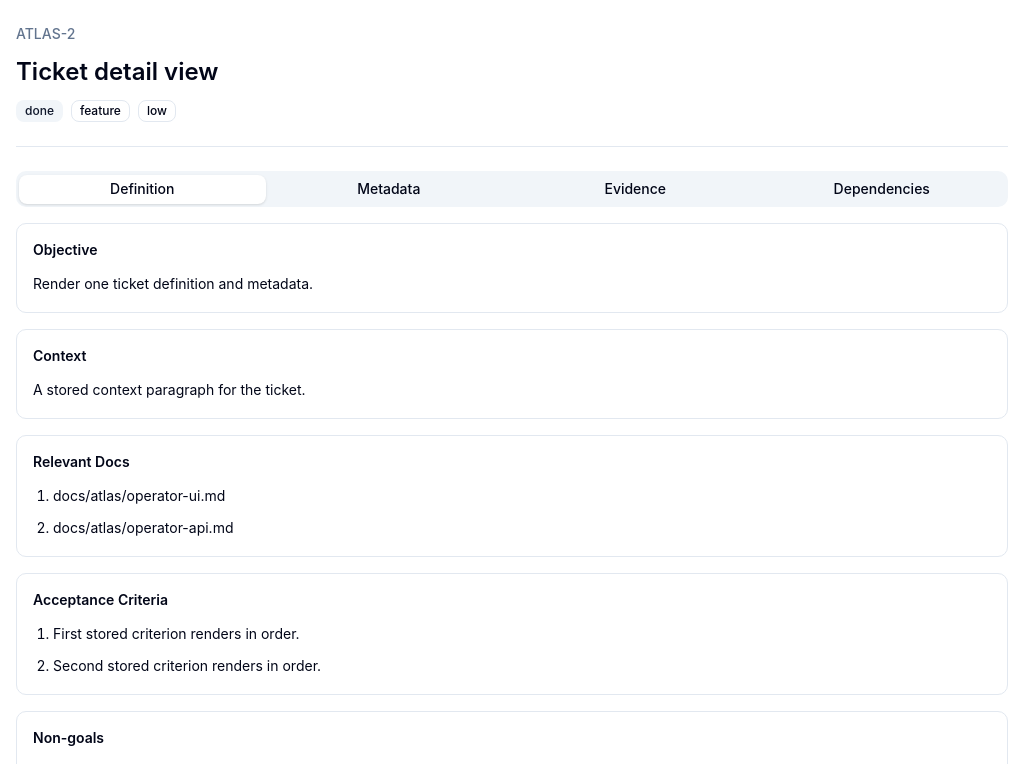
Test case: ticket detail view rendering › renders every not-ready reason, dependency links, and dangling defects
The image size is (1024, 764).
Step 1. Press the mouse on the tab "Dependencies" → (882, 189), box [758,174,1005,204]
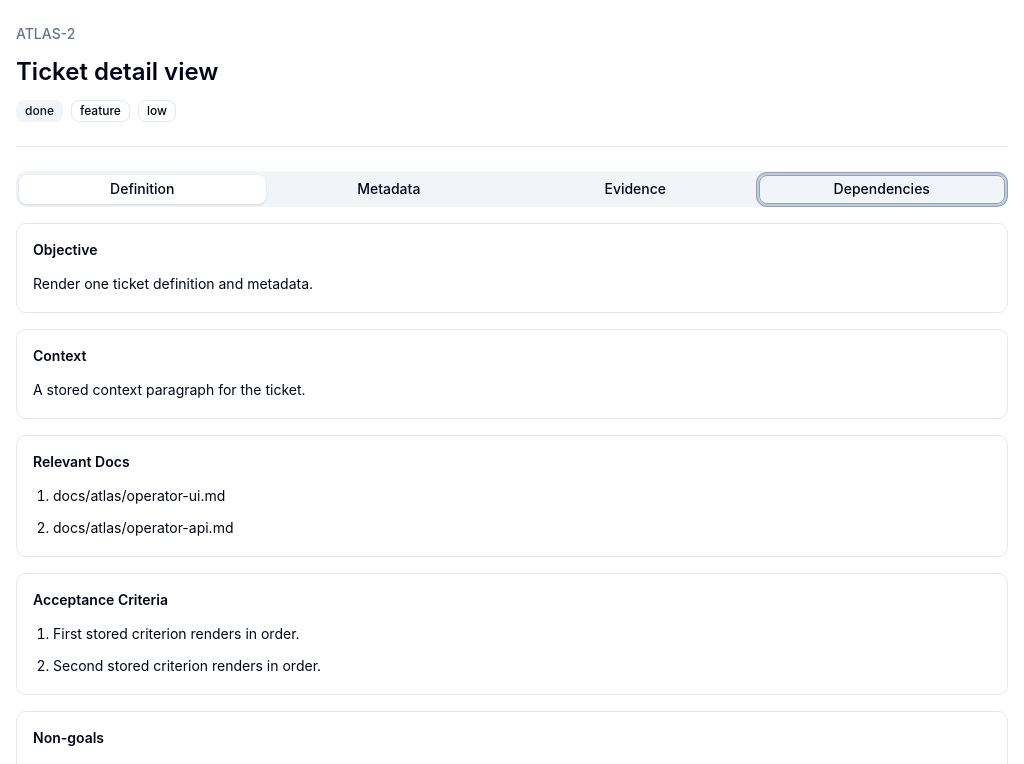
Step 2. Click the tab "Dependencies" → (882, 189), box [758,174,1005,204]
(page scrolled)
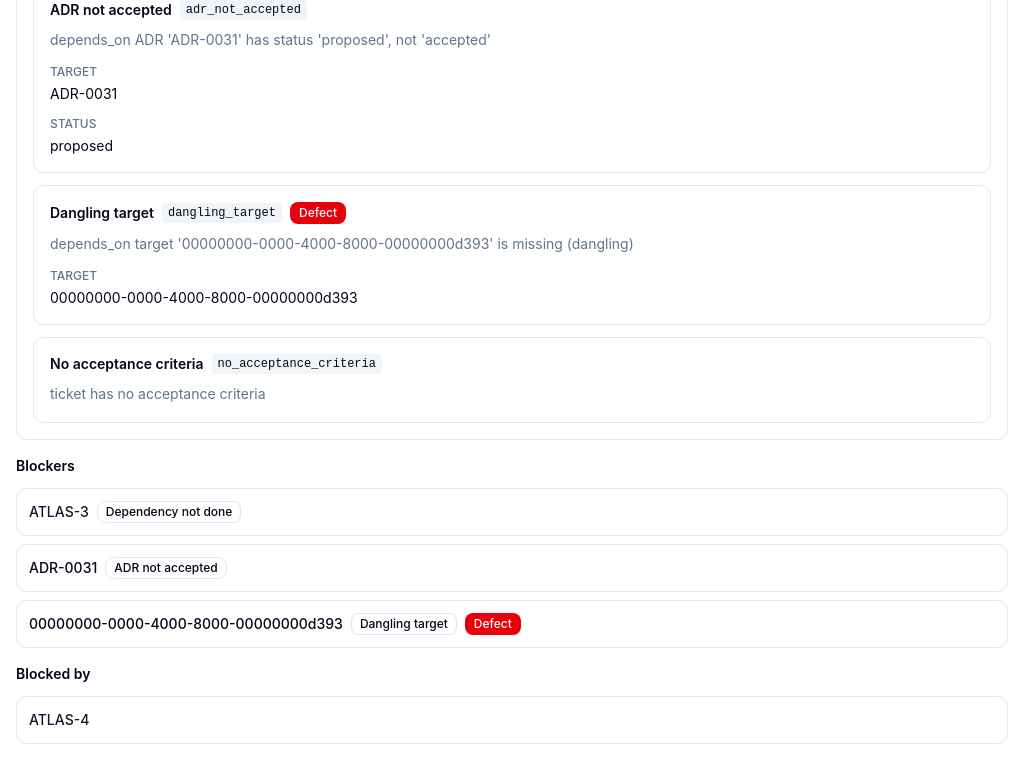
Now the text "00000000-0000-4000-8000-00000000d393" below "dangling_target" is shown, box [50,289,358,306]
